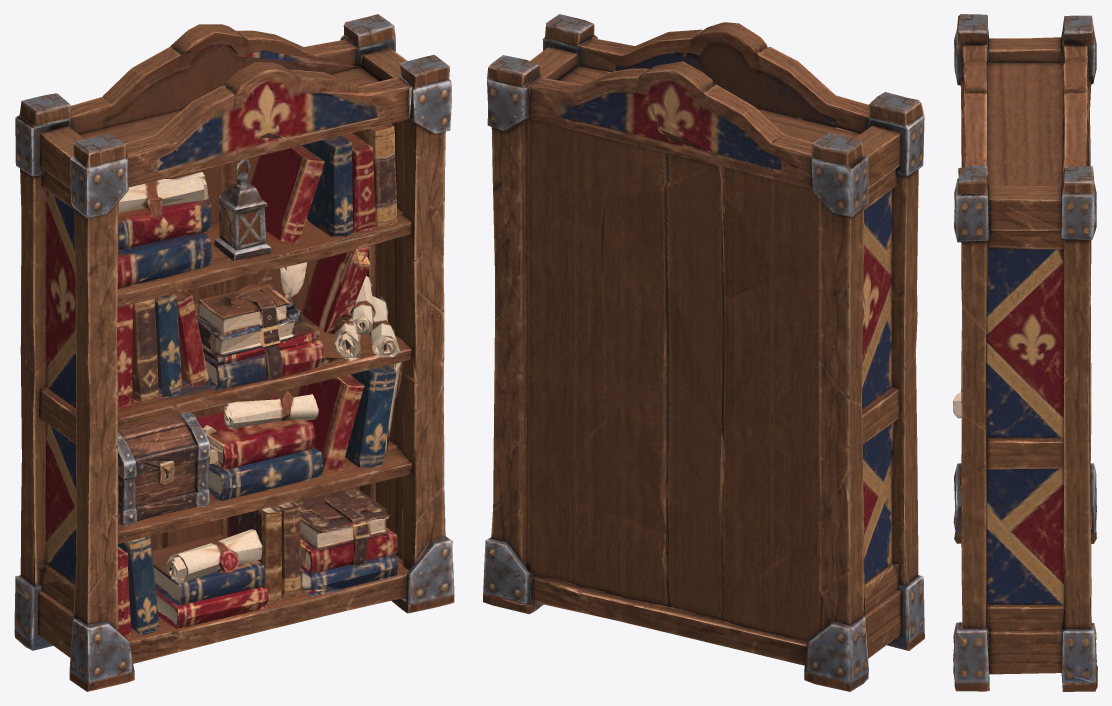
File: bookcase.glb
3 views of the same model, side by side, from view 1: azimuth 30°, elevation 25°; view 2: azimuth 150°, elevation 25°; view 3: azimuth 270°, elevation 25° (orthographic). The views are drawn at different scales.
Visible parts, largest first — view 1: output_unwrapped; view 2: output_unwrapped; view 3: output_unwrapped.
Boxes of the visible parts, x1,y1,x2,y2 form: output_unwrapped: (14,14,454,691); output_unwrapped: (483,14,924,691); output_unwrapped: (953,14,1097,691).
Bounding box in the file's own units: 1.29 × 1.9 × 0.4596.
Materials: 1 (1 with a texture image).
